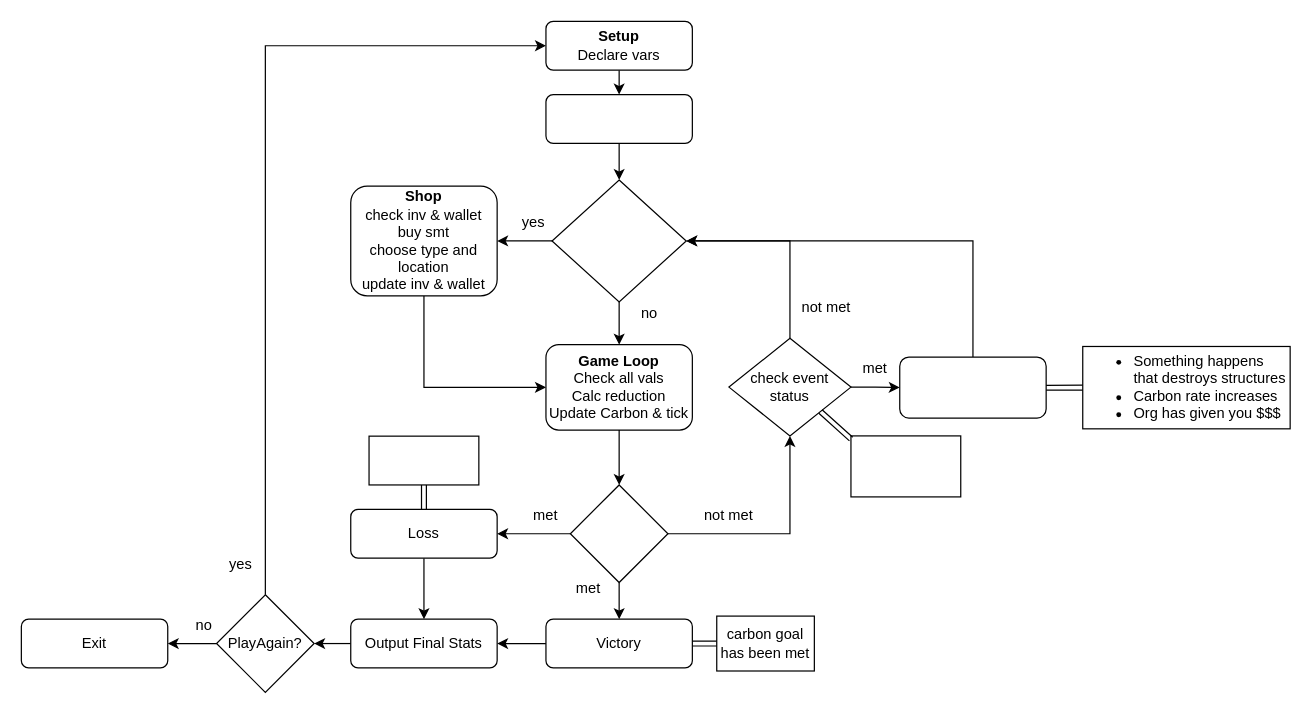
Some shapes in this 1312 by 714 pixel diagram are drawn without their labels. The centre of each missing label's shape, as x and y in pixels:
"Random" Event Update Game State Output relevant msg: pixel 972 387
carbon goal not reached in time: pixel 423 460
check win status: pixel 618 533
Game State input buy smt?: pixel 618 240
tick determines when events occur: pixel 905 466
Welcome + intro: pixel 618 118
